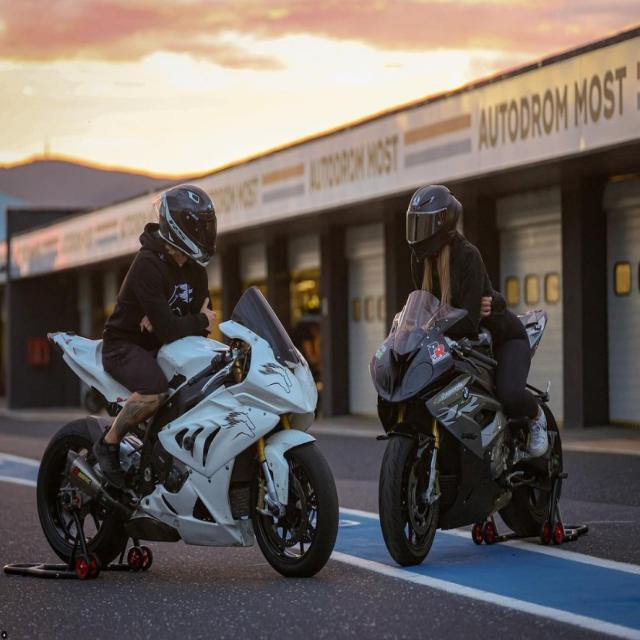helmet: (148, 180, 220, 273), (404, 181, 464, 267)
